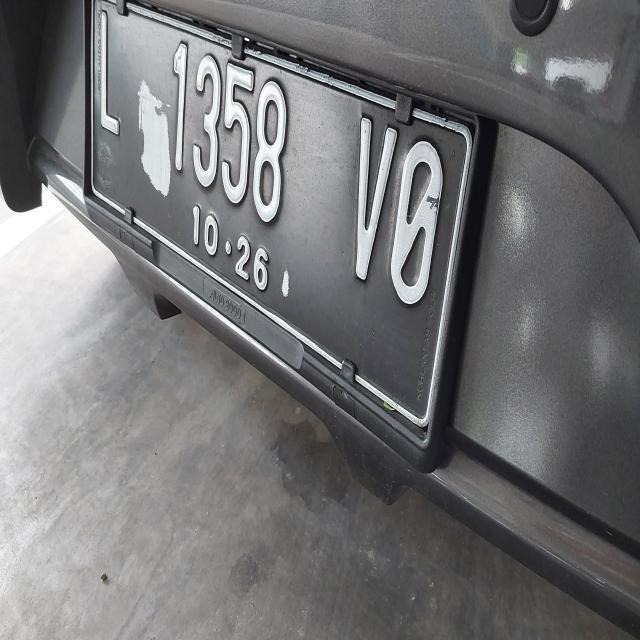1: (154, 30, 192, 180)
3: (188, 34, 222, 204)
5: (218, 50, 257, 211)
8: (250, 69, 296, 236)
L: (90, 5, 131, 152)
O: (387, 118, 450, 339)
V: (342, 92, 398, 304)
